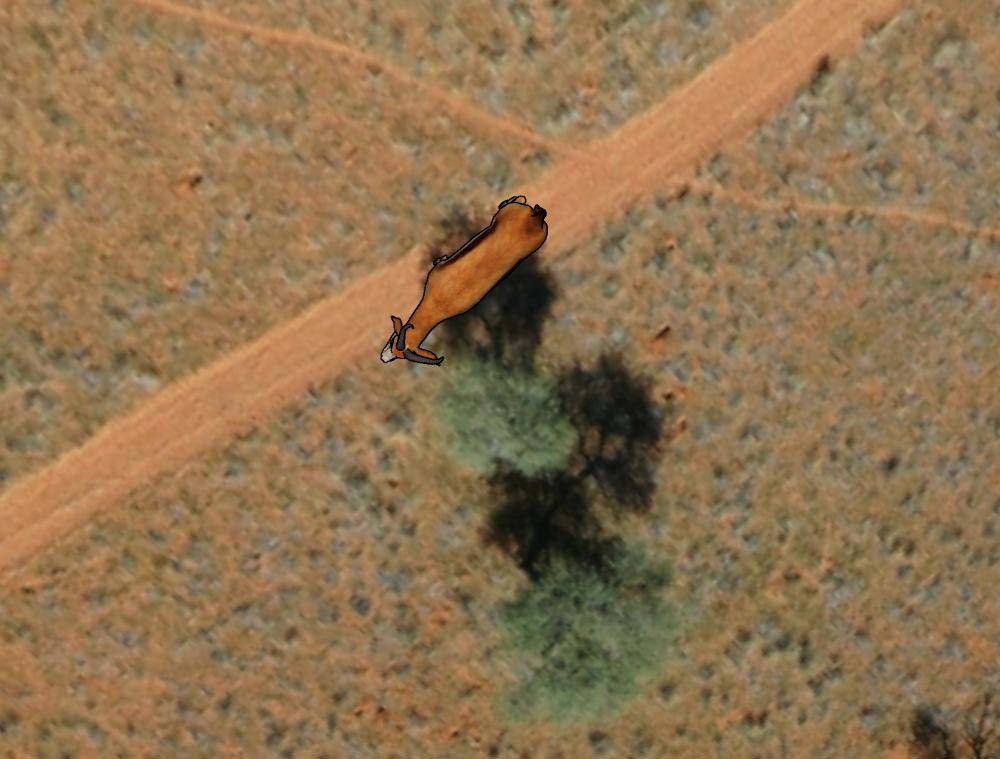springbok: (379, 188, 548, 370)
